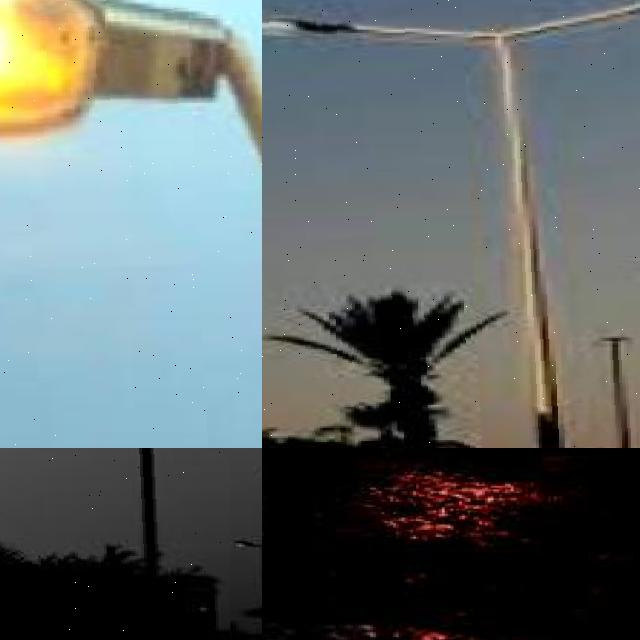street light: (262, 0, 640, 448), (0, 0, 262, 448), (37, 448, 230, 640), (233, 539, 262, 640)
